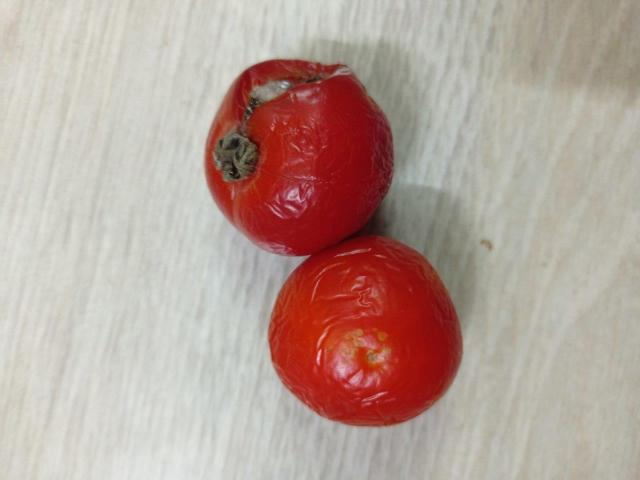defect: (199, 53, 400, 258), (263, 233, 468, 428)
